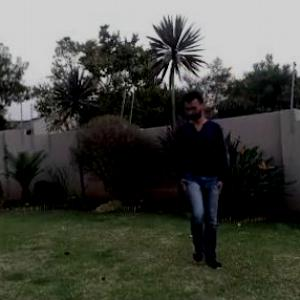follow: (167, 71, 238, 280)
